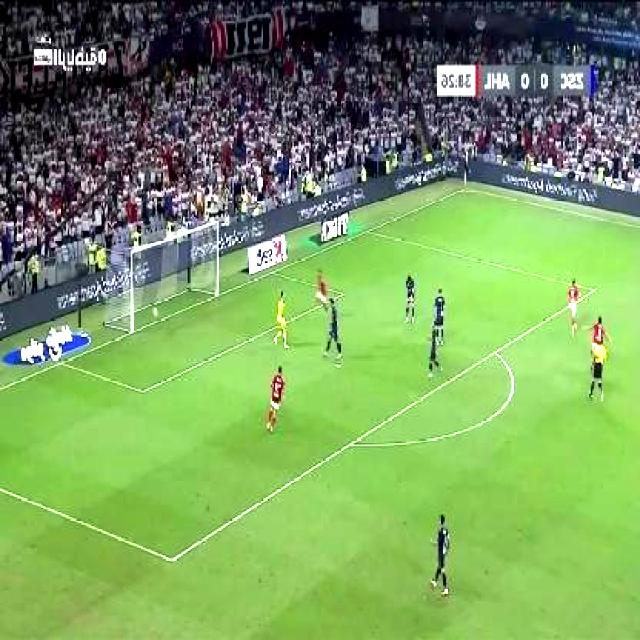bigarea_bottom_inner: (162, 541, 184, 574)
bigarea_top_inner: (586, 277, 605, 300)
bigarea_top_outter: (361, 222, 377, 238)
bottom_arc_area_intersection: (340, 429, 362, 457)
corner: (457, 180, 475, 195)
smallarea_bottom_inner: (134, 375, 154, 403)
smallarea_bottom_outter: (54, 352, 69, 371)
smallarea_top_inner: (335, 283, 351, 303)
smallarea_top_outter: (262, 262, 283, 283)
top_arc_area_intersection: (486, 340, 506, 363)
